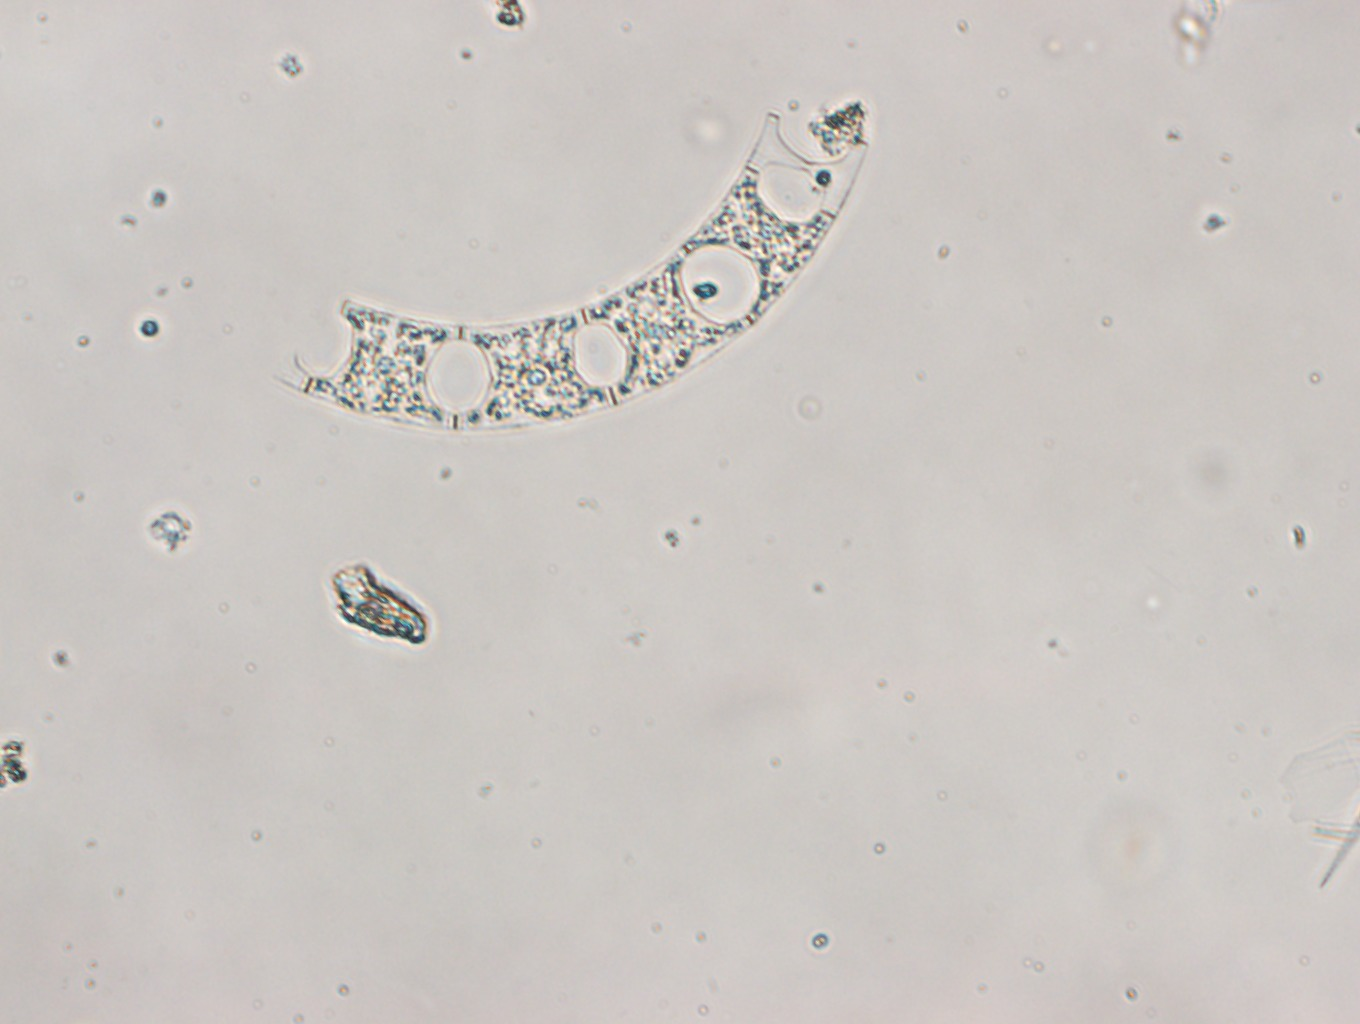eucampia: (269, 106, 869, 433)
